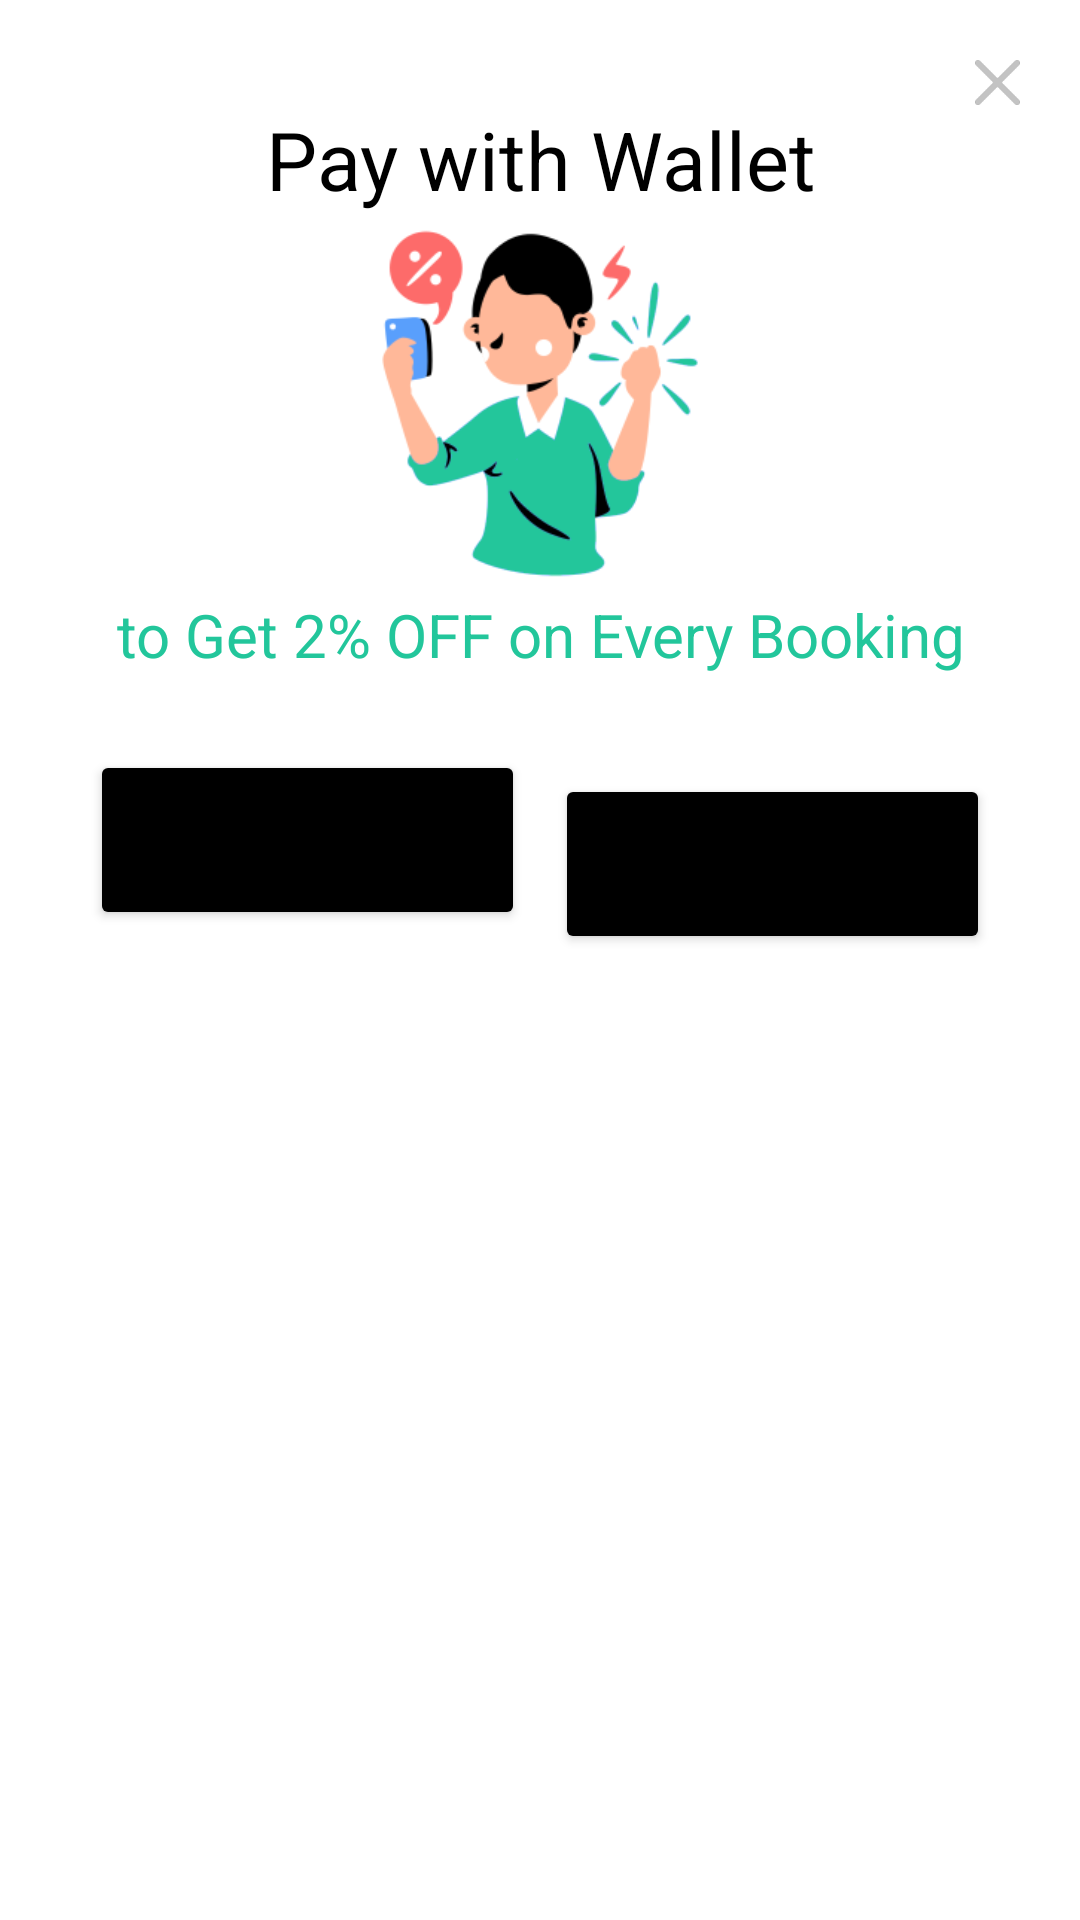

Screen size 1080w x 1920h. Icon name, then its box in pixels as box=[x1, y1, x2, y2]:
cancel: box=[975, 60, 1020, 105]
cashback boy: box=[382, 231, 698, 577]
